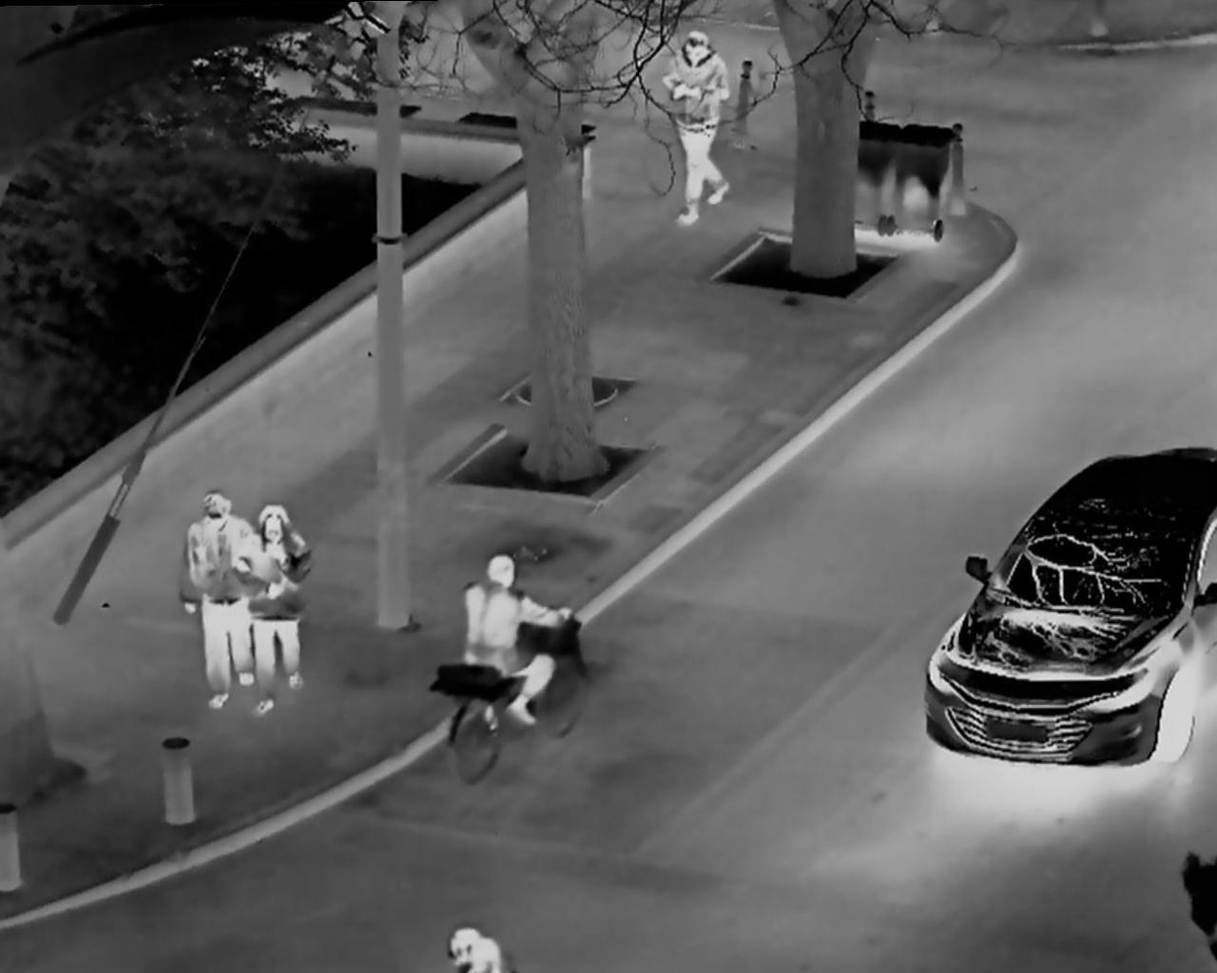person: (440, 541, 570, 760), (173, 483, 253, 718), (242, 503, 319, 725), (660, 30, 735, 239), (440, 915, 517, 973)
